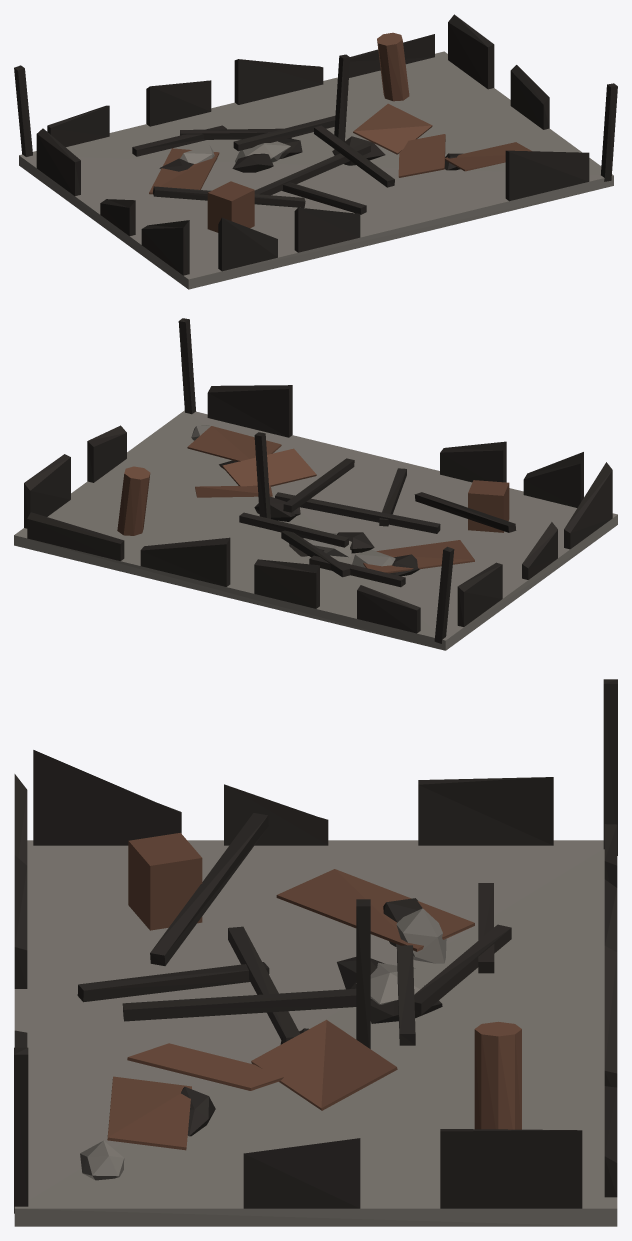
The model's file is ruin.glb.
3 views of the same model, one above another, from view 1: azimuth 30°, elevation 25°; view 2: azimuth 150°, elevation 25°; view 3: azimuth 270°, elevation 25° (orthographic). The views are drawn at different scales.
Visible parts, largest first — view 1: ruin; view 2: ruin; view 3: ruin.
Part boxes in pixels (x1,y1,x2,y2): ruin: (14, 14, 617, 289); ruin: (14, 318, 617, 650); ruin: (14, 679, 617, 1226).
Bounding box in the file's own units: 11.21 × 2.45 × 7.62.
